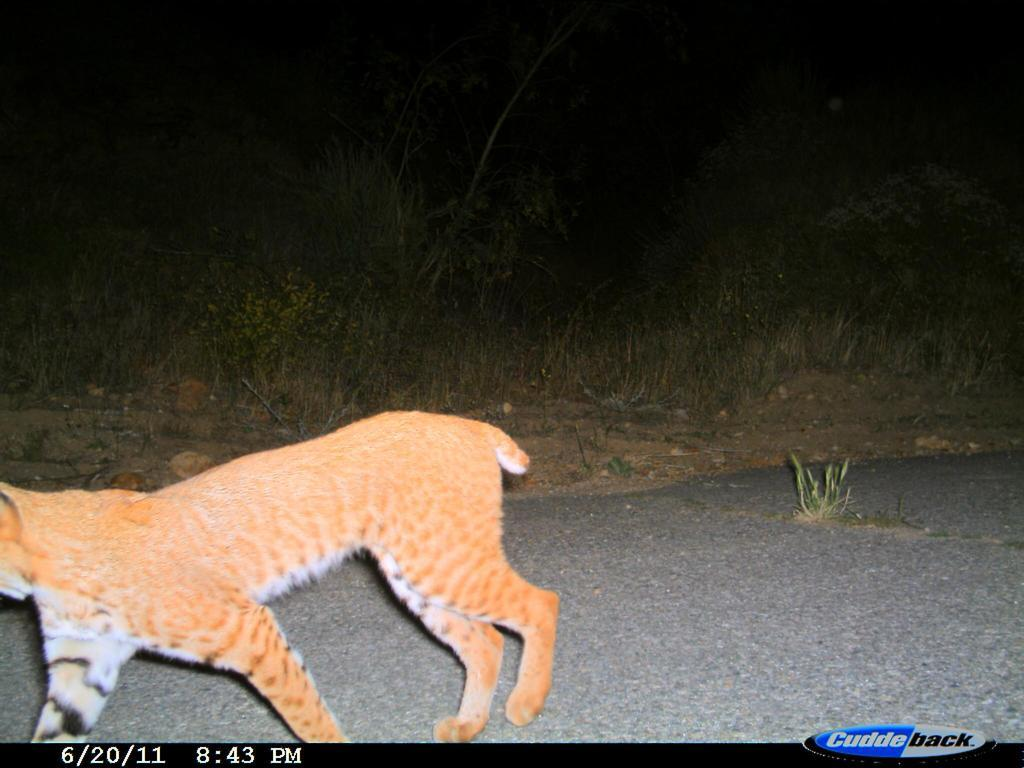bobcat: (1, 396, 559, 738)
